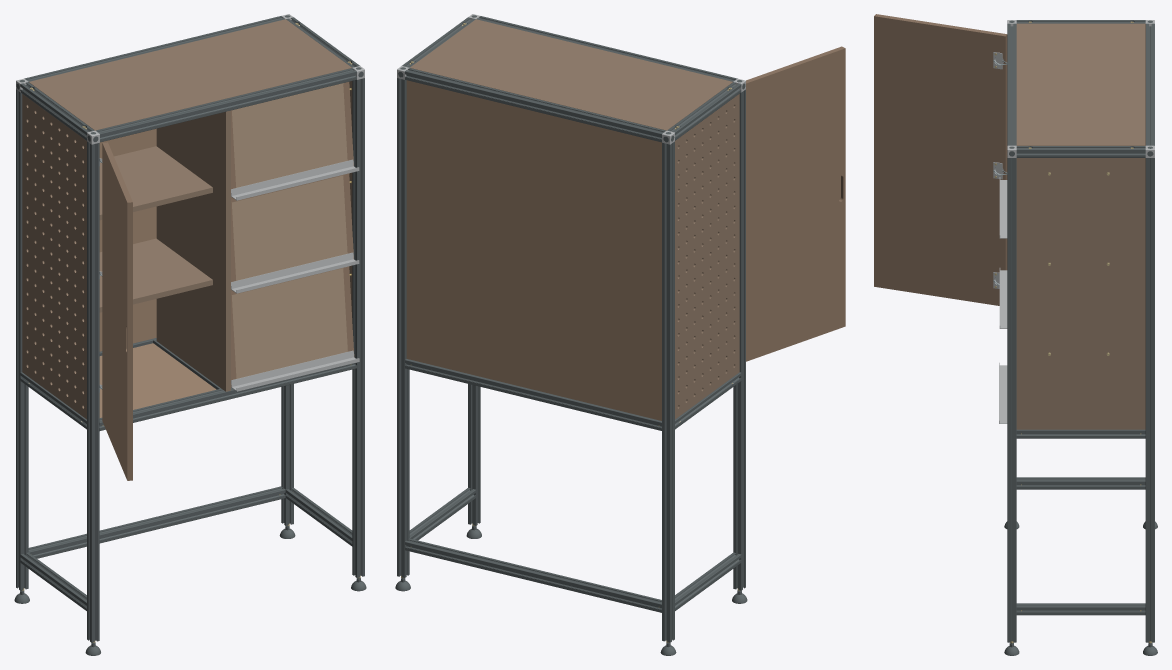
The model's file is cabinet-110.glb.
3 renders of one model, left to right at view 1: azimuth 30°, elevation 25°; view 2: azimuth 150°, elevation 25°; view 3: azimuth 270°, elevation 25°, orthographic. The views are drawn at different scales.
Visible parts, largest first — view 1: Left-pegboard-24, Top-18, Center-18, Plywood-infill-6-1, Left-door-face-18, Plywood-infill-6-2, Plywood-infill-6-3, Post-4-23, Post-966-23, Post-4-470, Shelf-Left-2, Shelf-Left-1 (+18 smaller); view 2: Back-infill-8, Left-door-face-18, Left-pegboard-24, Top-18, Post-4-470, Post-966-470, Post-4-23, Beam-top-rear, Beam-lower-rear, Beam-body-rear, Post-966-23, Beam-top-front (+4 smaller); view 3: Left-door-face-18, Right-wall-18, Top-18, Post-966-23, Post-966-470, Beam-lower-side-4, Beam-lower-side-966, Beam-top-side-966, Beam-body-side-966, Beam-top-rear, Beam-top-front, Display-ledge-3 (+3 smaller).
Boxes of the visible parts, <box> form: Left-pegboard-24: <box>22,94,86,419</box>; Top-18: <box>29,19,351,130</box>; Center-18: <box>156,110,230,391</box>; Plywood-infill-6-1: <box>232,268,347,378</box>; Left-door-face-18: <box>102,142,132,480</box>; Plywood-infill-6-2: <box>232,175,347,280</box>; Plywood-infill-6-3: <box>232,83,347,187</box>; Post-4-23: <box>87,141,99,642</box>; Post-966-23: <box>352,78,364,577</box>; Post-4-470: <box>16,89,28,590</box>; Shelf-Left-2: <box>99,146,212,220</box>; Shelf-Left-1: <box>99,238,212,312</box>; Back-infill-8: <box>406,80,661,420</box>; Left-door-face-18: <box>746,46,845,361</box>; Left-pegboard-24: <box>675,94,739,419</box>; Top-18: <box>410,19,732,130</box>; Post-4-470: <box>662,141,674,642</box>; Post-966-470: <box>397,78,409,577</box>; Post-4-23: <box>733,89,745,590</box>; Beam-top-rear: <box>405,68,665,142</box>; Beam-lower-rear: <box>405,538,661,612</box>; Beam-body-rear: <box>405,359,661,430</box>; Post-966-23: <box>468,384,480,525</box>; Beam-top-front: <box>476,16,737,81</box>; Left-door-face-18: <box>874,14,1007,305</box>; Right-wall-18: <box>1016,158,1145,429</box>; Top-18: <box>1016,23,1145,145</box>; Post-966-23: <box>1007,158,1016,642</box>; Post-966-470: <box>1145,158,1154,642</box>; Beam-lower-side-4: <box>1016,477,1145,489</box>; Beam-lower-side-966: <box>1016,603,1145,615</box>; Beam-top-side-966: <box>1016,146,1145,157</box>; Beam-body-side-966: <box>1016,429,1145,438</box>; Beam-top-rear: <box>1145,23,1154,145</box>; Beam-top-front: <box>1007,23,1016,145</box>; Display-ledge-3: <box>999,177,1007,238</box>.
Size of the model in its own units: 1.12 by 1.8 by 0.9166.
